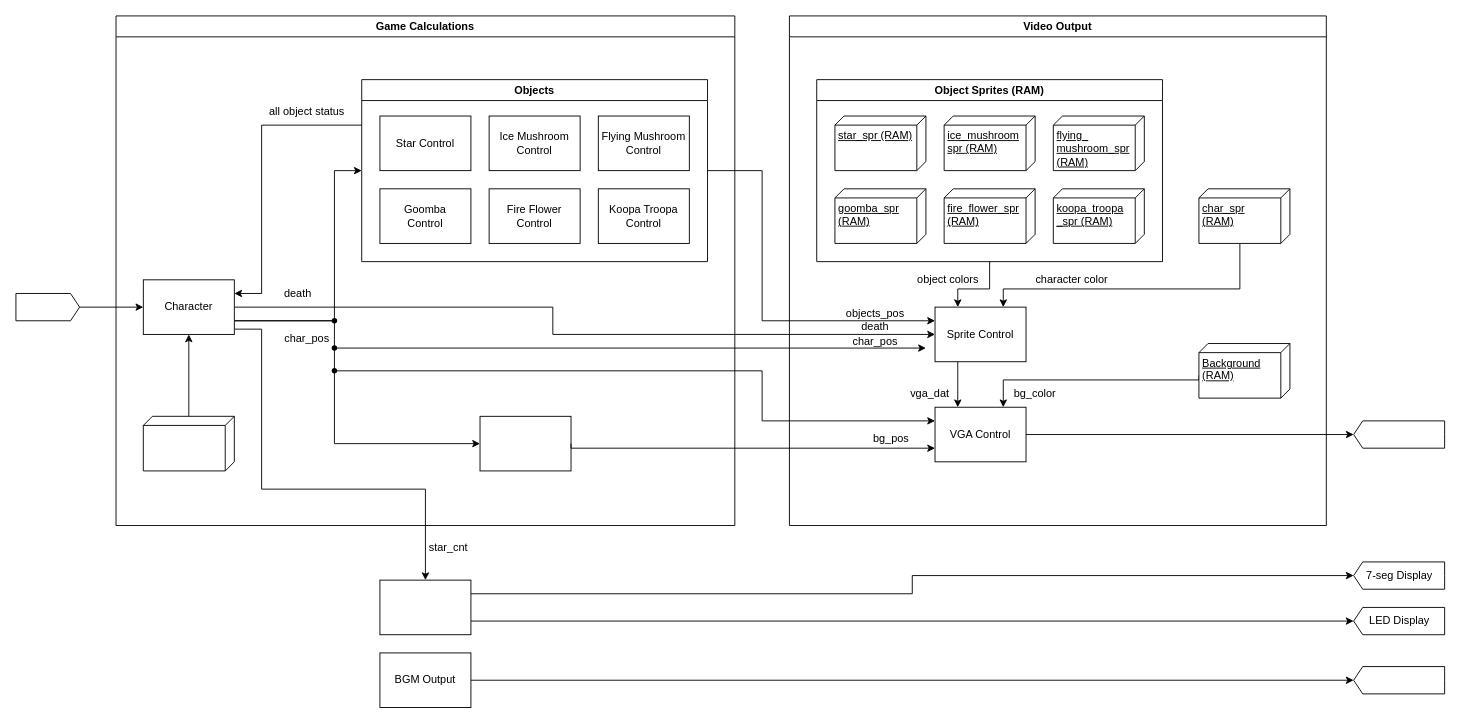
Image size: 1461x723. Some labels were removed from this diagram. The shapes that lost their labels are listed below. From the top down, each one's centre as x and y in pixels, then its label:
At [47,307]: "Buttons".
At [188,443]: "Blocking Map (RAM)".
At [525,443]: "Scrolling".
At [1399,434]: "Screen".
At [425,607]: "Star Output".
At [1399,680]: "Speaker".
